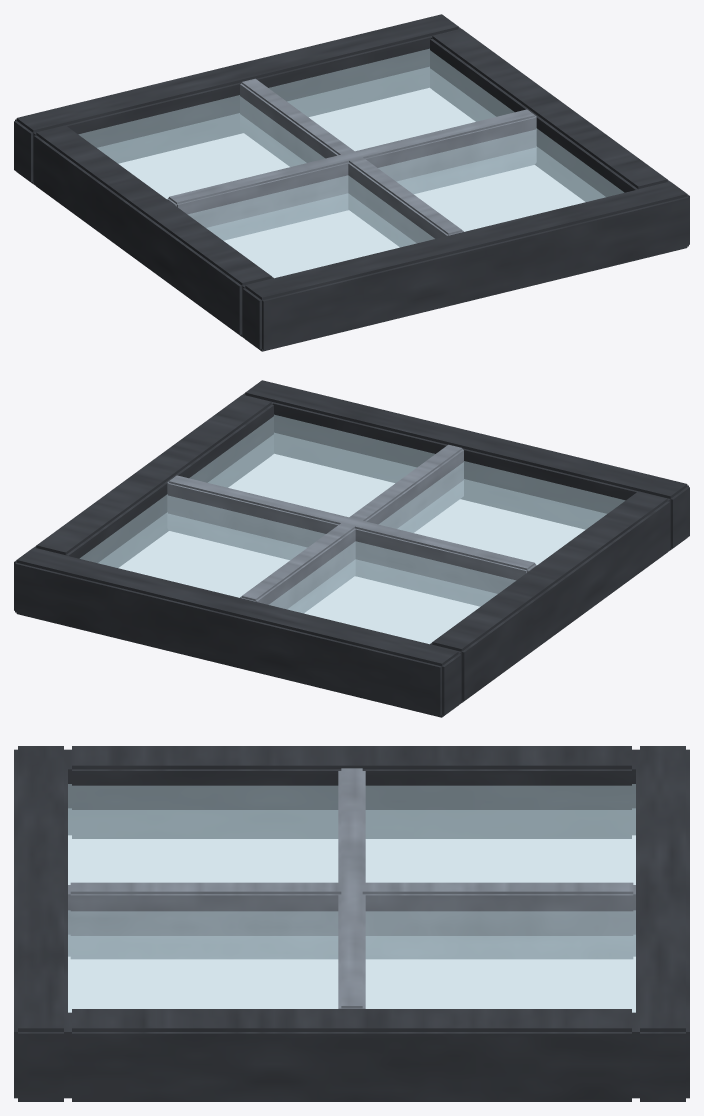
The model's file is roof_glass.glb.
The picture shows the model from 3 angles, top to bottom: view 1: azimuth 30°, elevation 25°; view 2: azimuth 150°, elevation 25°; view 3: azimuth 270°, elevation 25°; orthographic projection. The views are drawn at different scales.
Parts seen in each view (by area): view 1: roof_glass; view 2: roof_glass; view 3: roof_glass.
Boxes of the visible parts, x1=… form: roof_glass: x1=14, y1=14, x2=689, y2=351; roof_glass: x1=14, y1=380, x2=689, y2=717; roof_glass: x1=14, y1=746, x2=689, y2=1101.
Bounding box in the file's own units: 1 × 0.12 × 1.
3 materials, 2 textured.
